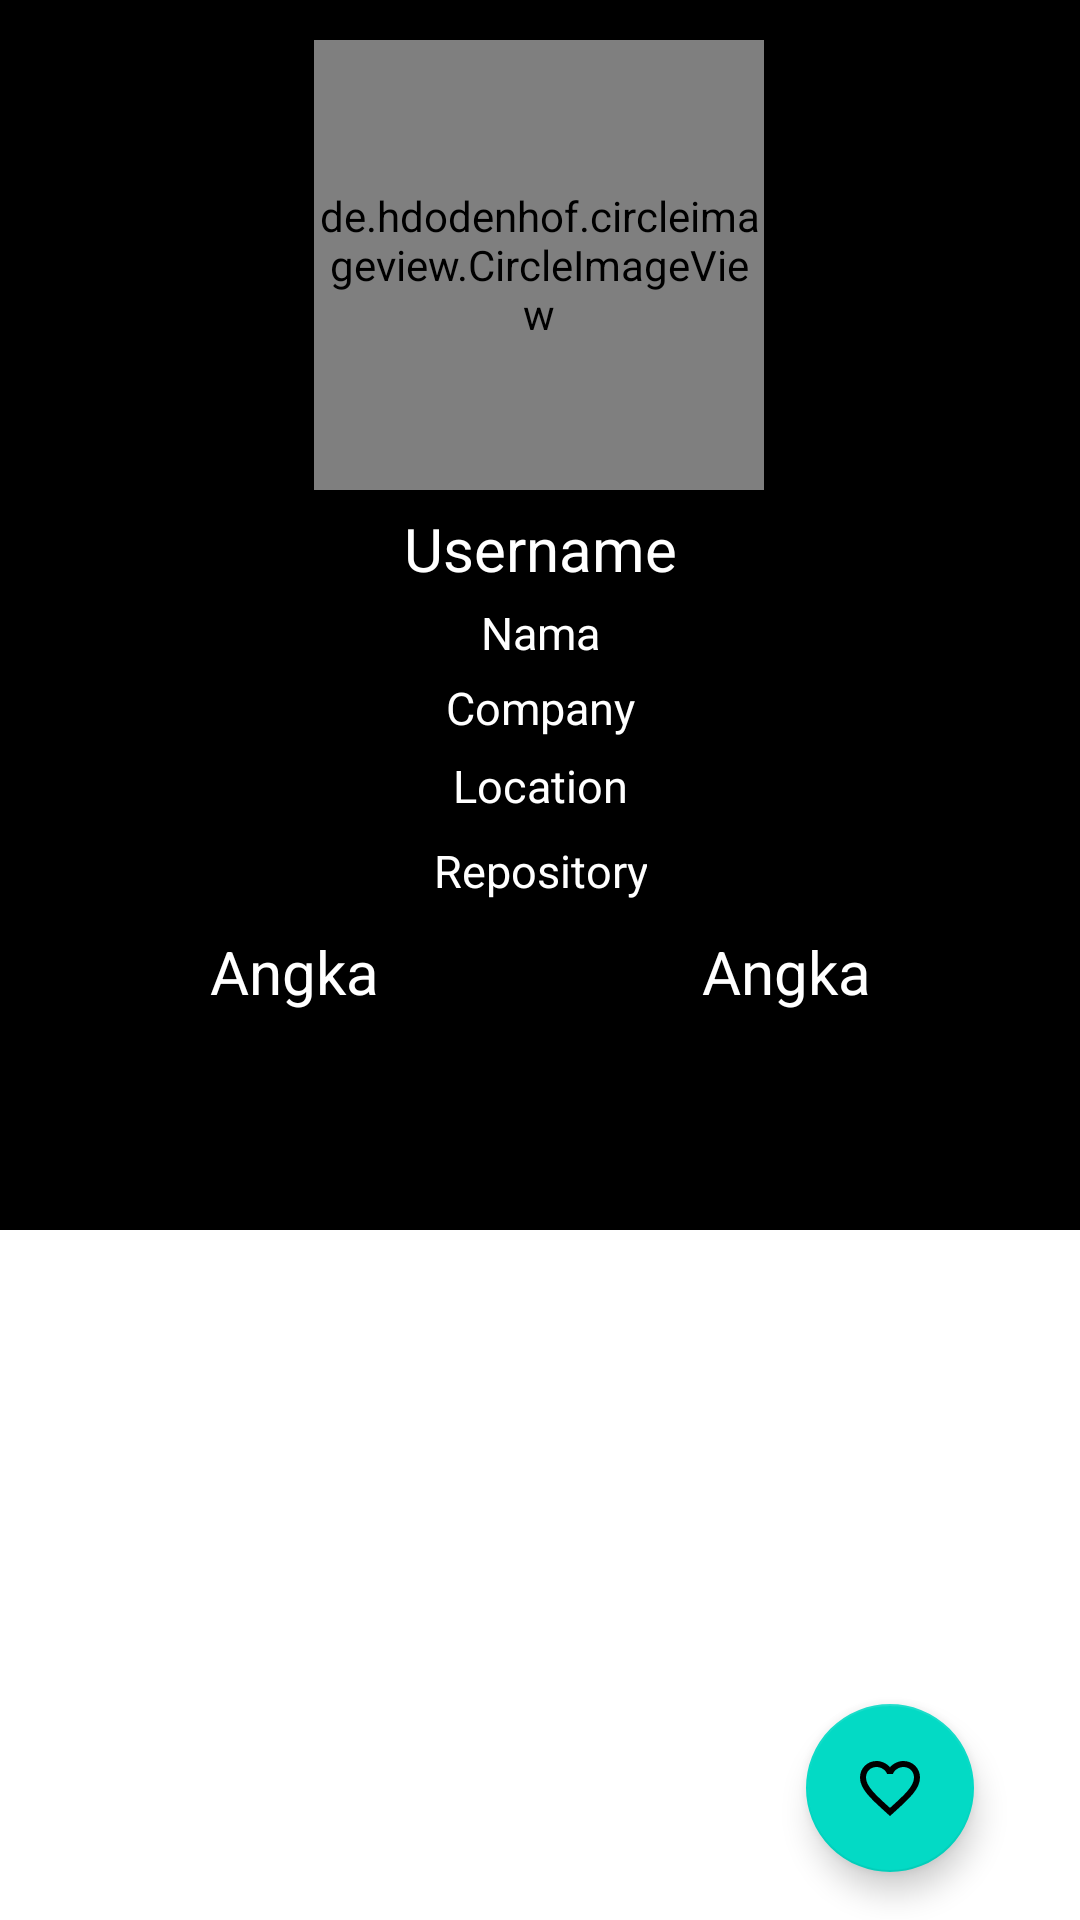

Named icons in this screenshot (1080 × 1920) and their bounding boxes, (x1, y1, x2, y2):
favorite border: (806, 1704, 974, 1872)
